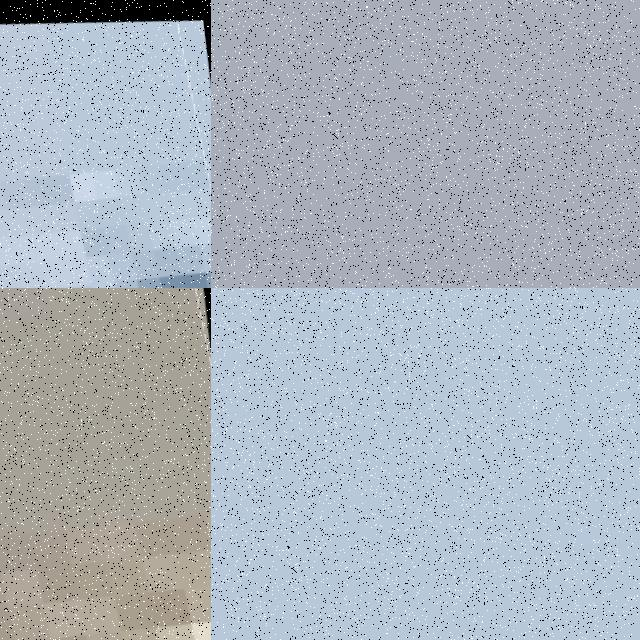0: (0, 0, 211, 288)
drone: (0, 288, 211, 640)
